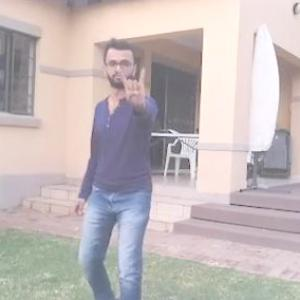takeoff-hand: (114, 60, 152, 109)
